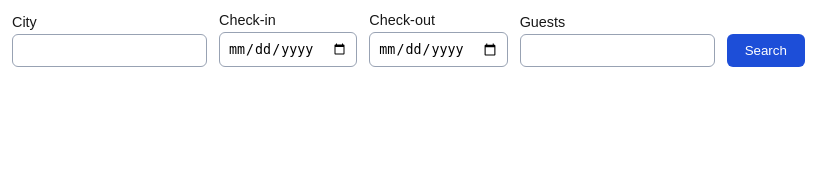
SearchForm › does not search and names every empty field (EC7, FR-012)
Click the button "Search". click: x=766, y=51
box: top-left (727, 34), bottom-right (805, 67)
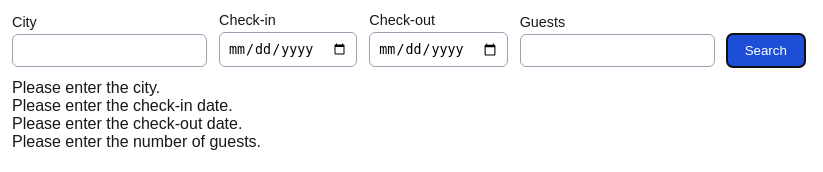
expect the message shows "city": met, box top-left (12, 79), bottom-right (160, 96)
expect the message shows "check-in": met, box top-left (12, 97), bottom-right (233, 114)
expect the message shows "check-out": met, box top-left (12, 115), bottom-right (242, 132)
